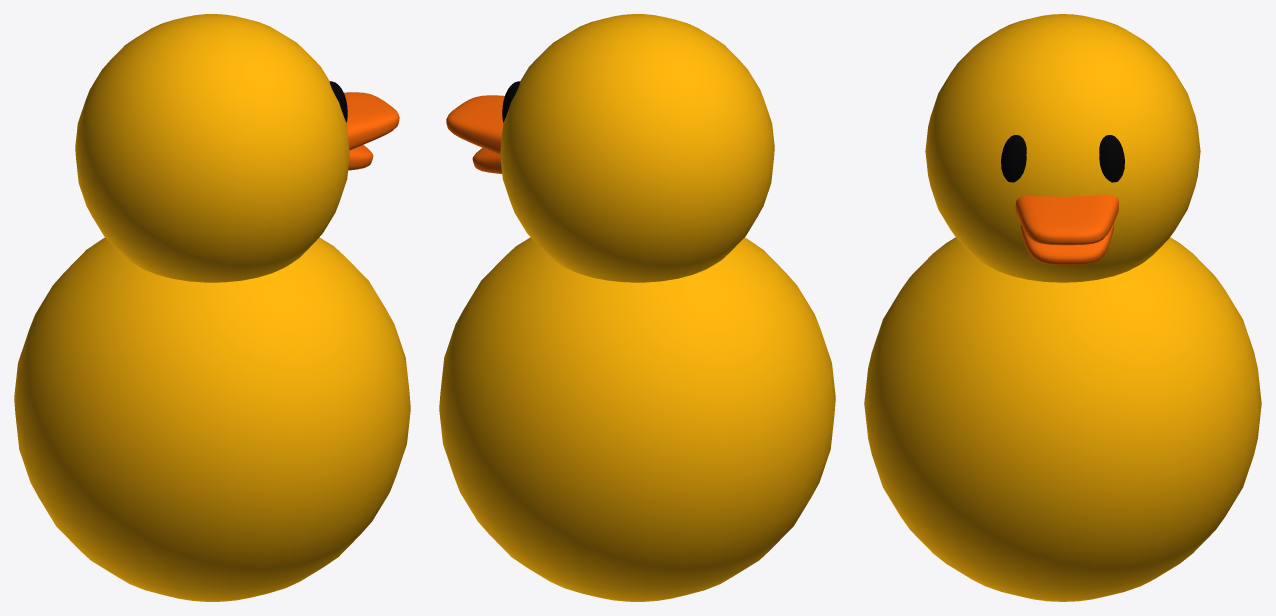
The model's file is Duck.glb.
The picture shows the model from 3 angles, left to right: view 1: azimuth 30°, elevation 25°; view 2: azimuth 150°, elevation 25°; view 3: azimuth 270°, elevation 25°; orthographic projection.
Visible parts, largest first — view 1: Body, Head, Mouth_T; view 2: Body, Head, Mouth_T, Mouth_B; view 3: Body, Head, Mouth_T, Mouth_B, Eye_L, Eye_R.
Part boxes in pixels (box(x1,y1,x2,y2)): Body: box(14, 237, 410, 601); Head: box(75, 14, 349, 282); Mouth_T: box(344, 92, 399, 150); Body: box(439, 237, 835, 601); Head: box(500, 14, 774, 282); Mouth_T: box(446, 95, 504, 154); Mouth_B: box(472, 148, 502, 173); Body: box(864, 237, 1261, 601); Head: box(925, 14, 1200, 282); Mouth_T: box(1015, 194, 1118, 245); Mouth_B: box(1020, 223, 1113, 264); Eye_L: box(1001, 135, 1026, 182); Eye_R: box(1099, 135, 1124, 182).
Bounding box in the file's own units: 1.33 × 2.01 × 1.3.
